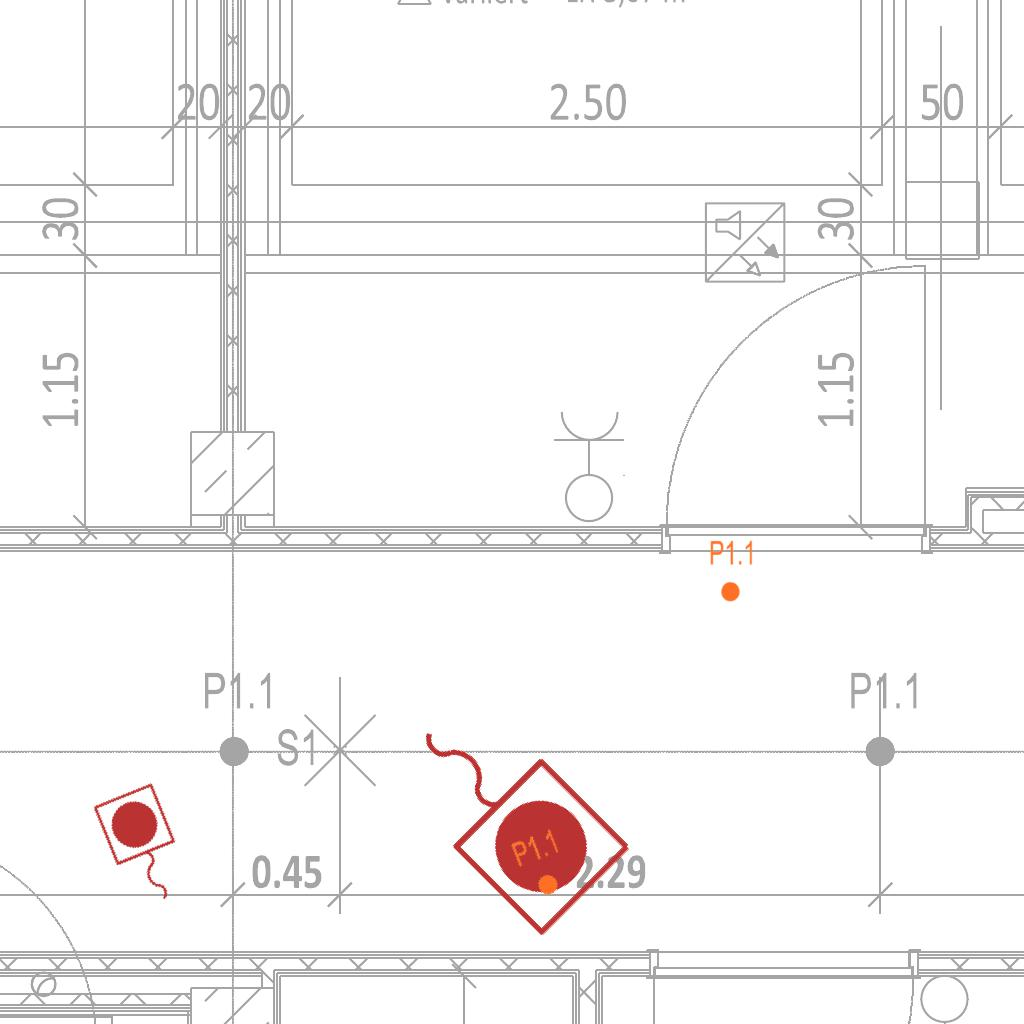Downlight_LED_Einbauleuchten_Flur: (509, 826, 575, 904), (709, 539, 755, 603)
Zugtaster: (369, 672, 645, 948), (86, 777, 200, 919)
